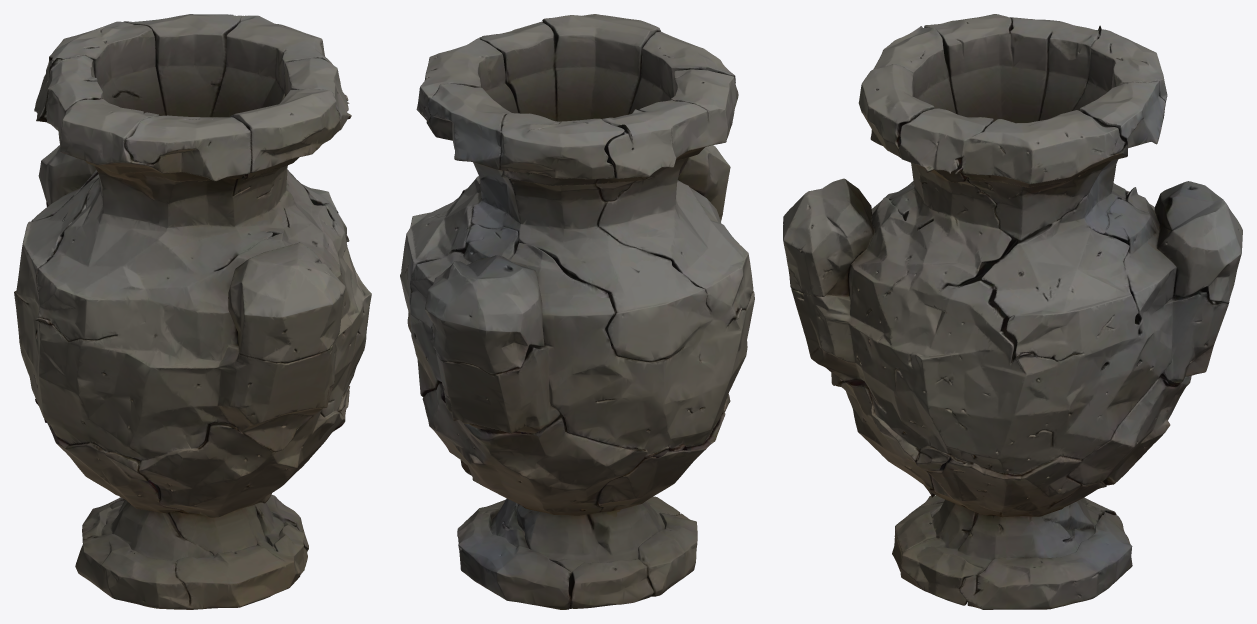
File: Vaze.opt.glb
3 renders of one model, left to right at view 1: azimuth 30°, elevation 25°; view 2: azimuth 150°, elevation 25°; view 3: azimuth 270°, elevation 25°, orthographic.
Parts seen in each view (by area): view 1: tripo_node_70c1e36e-451c-4212-8eda-98e425402f11; view 2: tripo_node_70c1e36e-451c-4212-8eda-98e425402f11; view 3: tripo_node_70c1e36e-451c-4212-8eda-98e425402f11.
Part boxes in pixels (x1,y1,x2,y2): tripo_node_70c1e36e-451c-4212-8eda-98e425402f11: (14, 14, 371, 609); tripo_node_70c1e36e-451c-4212-8eda-98e425402f11: (400, 14, 754, 609); tripo_node_70c1e36e-451c-4212-8eda-98e425402f11: (783, 14, 1242, 609).
Size of the model in its own units: 0.6763 by 1 by 0.8472.
Materials: 1 (1 with a texture image).
